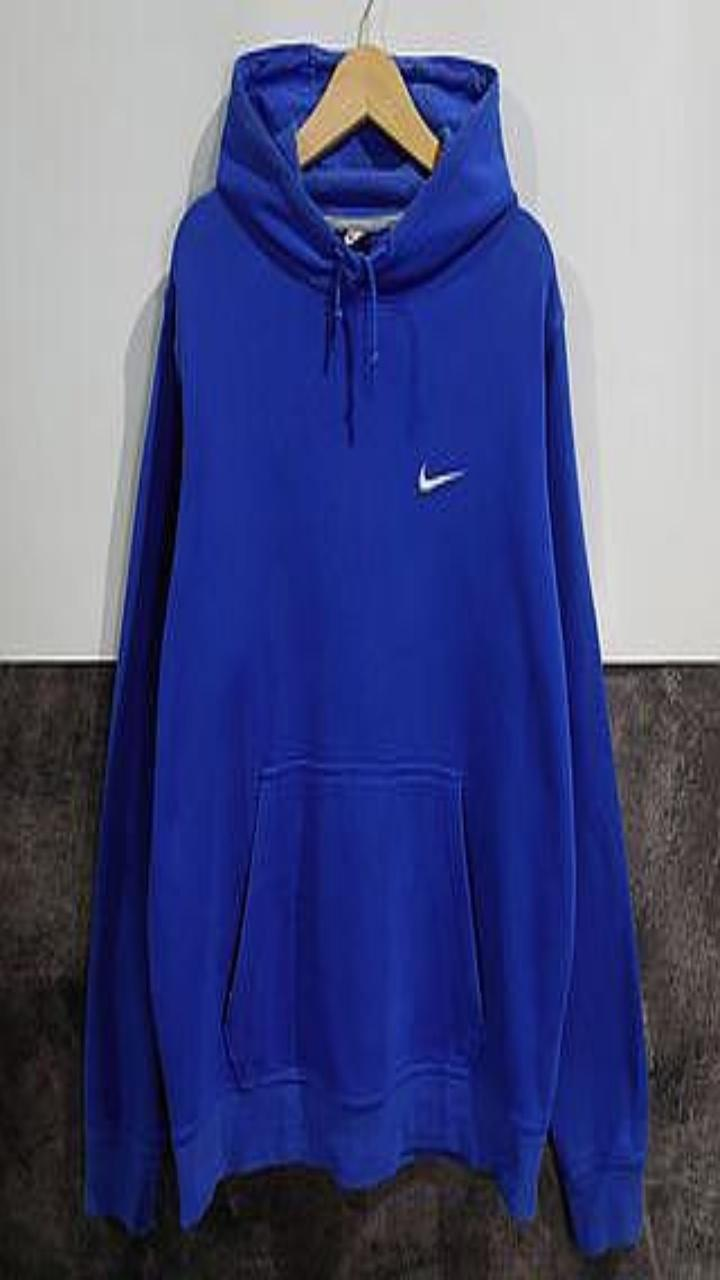Hoodie: (85, 44, 647, 1253)
